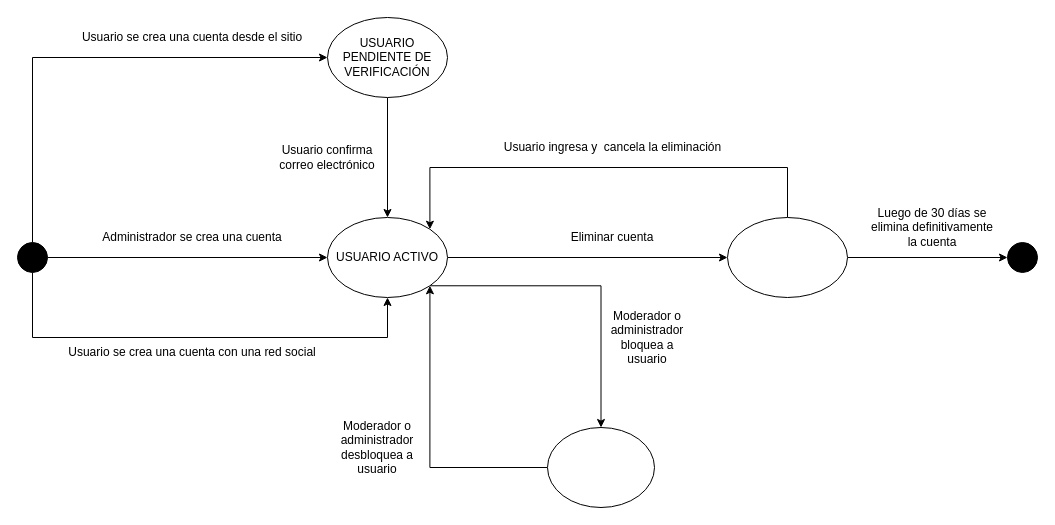
Some shapes in this 1055 by 525 pixel diagram are drawn without their labels. Here are the shapes that lost their labels. From the top down, the box of each, then its label:
(726, 216, 848, 298): USUARIO ELIMINADO
(546, 426, 654, 508): USUARIO BLOQUEADO
